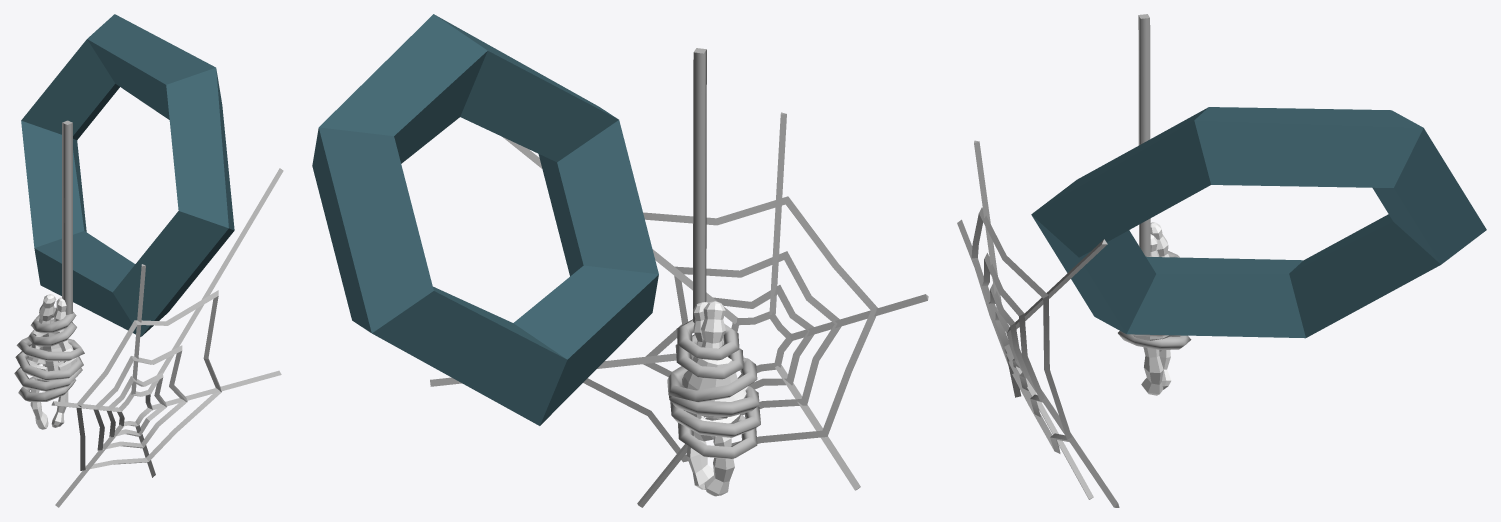
3 views of the same model, side by side, from view 1: azimuth 30°, elevation 25°; view 2: azimuth 150°, elevation 25°; view 3: azimuth 270°, elevation 25° (orthographic). The views are drawn at different scales.
Visible parts, largest first — view 1: Torus036_metal_0, Line1350_grey_0, Circle032_grey_0, Sphere274_white_0, Sphere276_white_0, Object295_white_0, Object296_white_0; view 2: Torus036_metal_0, Line1350_grey_0, Circle032_grey_0, Sphere274_white_0, Object295_white_0, Sphere276_white_0, Object296_white_0; view 3: Torus036_metal_0, Line1350_grey_0, Circle032_grey_0, Object296_white_0.
Boxes of the visible parts, <box> form: Torus036_metal_0: <box>21,14,234,336</box>; Line1350_grey_0: <box>51,168,283,507</box>; Circle032_grey_0: <box>14,120,84,402</box>; Sphere274_white_0: <box>27,330,75,381</box>; Sphere276_white_0: <box>38,294,55,323</box>; Object295_white_0: <box>30,379,48,429</box>; Object296_white_0: <box>51,391,68,427</box>; Torus036_metal_0: <box>312,14,658,425</box>; Line1350_grey_0: <box>430,112,928,507</box>; Circle032_grey_0: <box>667,48,760,458</box>; Sphere274_white_0: <box>682,356,747,441</box>; Object295_white_0: <box>704,436,734,496</box>; Sphere276_white_0: <box>701,301,725,348</box>; Object296_white_0: <box>686,417,713,489</box>; Torus036_metal_0: <box>1031,107,1486,338</box>; Line1350_grey_0: <box>957,140,1119,507</box>; Circle032_grey_0: <box>1118,14,1191,349</box>; Object296_white_0: <box>1141,347,1163,395</box>.
Bounding box in the file's own units: 354 × 412 × 445.
